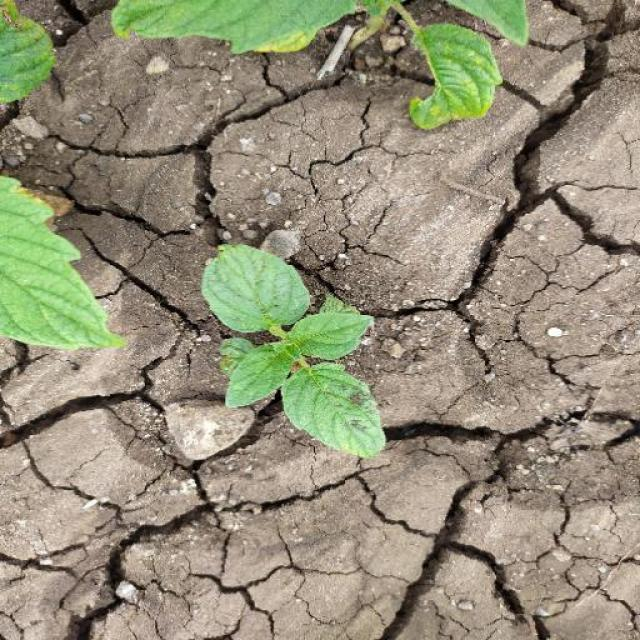crop: (107, 2, 625, 138), (195, 239, 405, 471), (1, 2, 130, 350)
